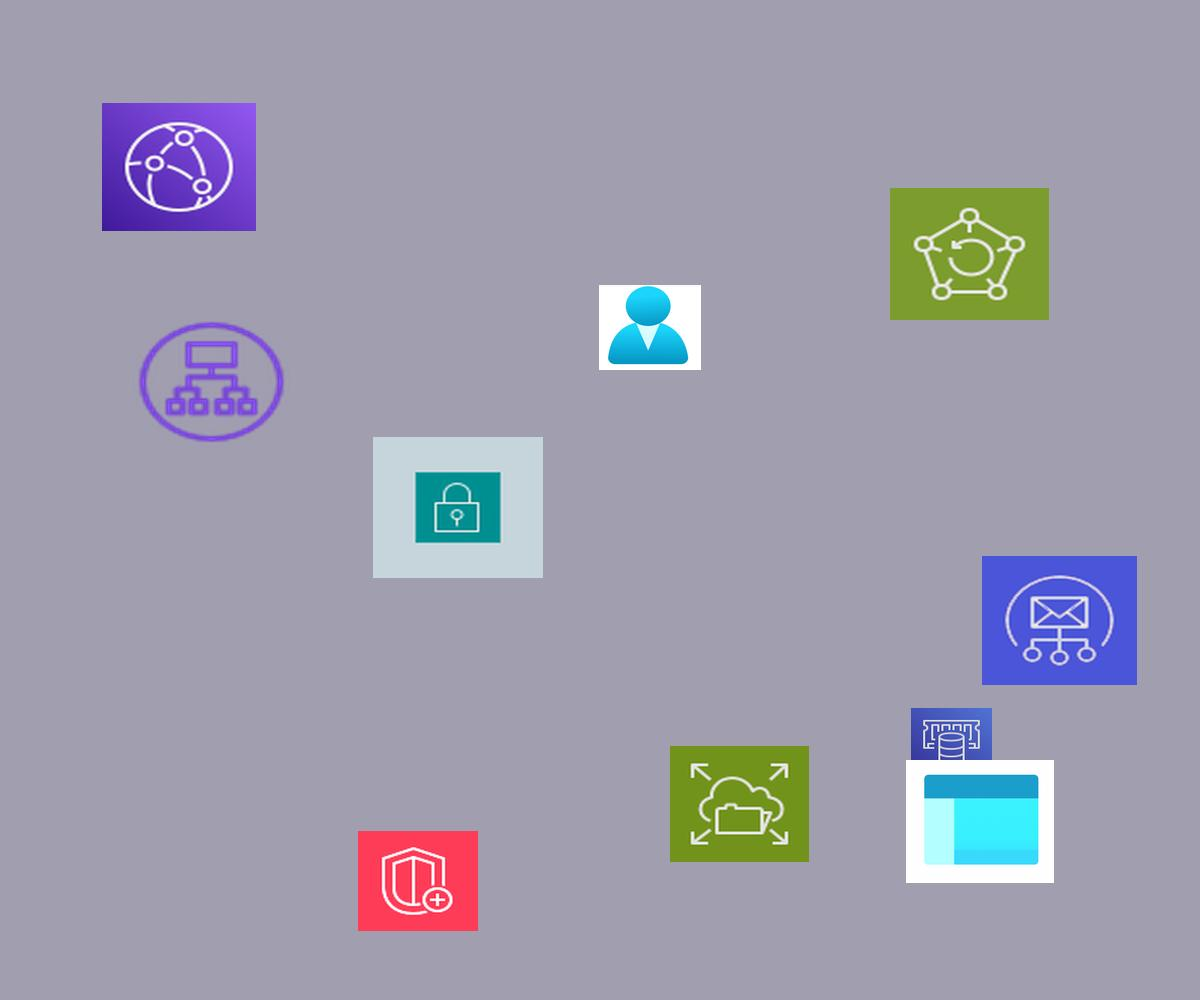AWS-Backup: (890, 188, 1049, 320)
AWS-CloudFront: (102, 103, 256, 231)
AWS-EFS: (670, 746, 809, 862)
AWS-ElastiCache: (911, 708, 992, 776)
AWS-Private-subnet: (373, 437, 543, 578)
AWS-Res_Elastic-Load-Balancing_Application-Load-Balancer: (133, 317, 290, 447)
AWS-Shield: (358, 831, 478, 931)
AWS-Simple-Email-Service: (982, 556, 1137, 685)
Azure_management-portal: (906, 760, 1054, 883)
Azure_users: (599, 285, 701, 370)
